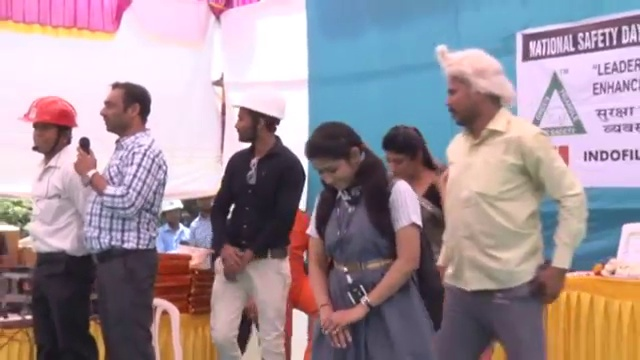helmet: (19, 90, 79, 133), (230, 87, 286, 122), (160, 199, 183, 215)
helmet_off: (302, 121, 376, 203), (439, 53, 516, 129), (377, 125, 438, 203), (92, 83, 153, 143), (181, 198, 198, 217), (196, 197, 213, 212)
helmet_on: (21, 93, 81, 163), (230, 87, 287, 148), (160, 201, 183, 226)
person: (429, 47, 597, 360), (303, 116, 421, 359), (207, 86, 310, 355), (75, 84, 166, 360), (20, 89, 94, 360), (152, 196, 190, 254), (189, 196, 215, 248)
